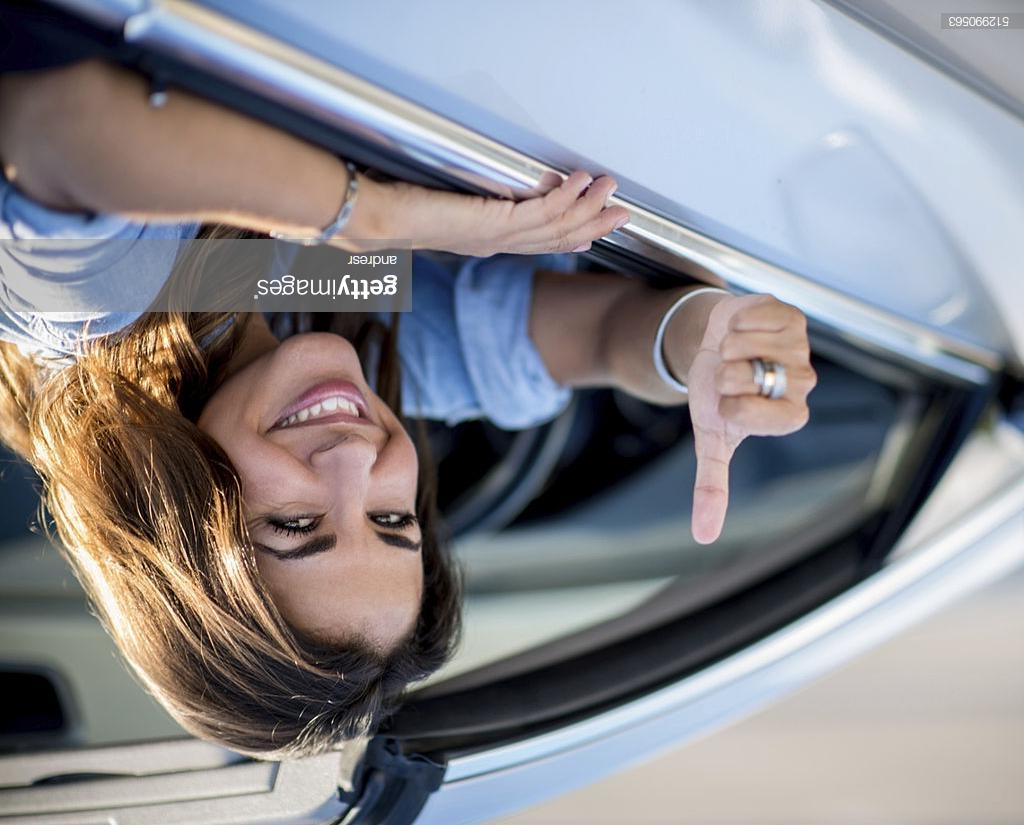thumbsdown: (690, 302, 819, 546)
